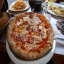pizza: (6, 13, 53, 59)
